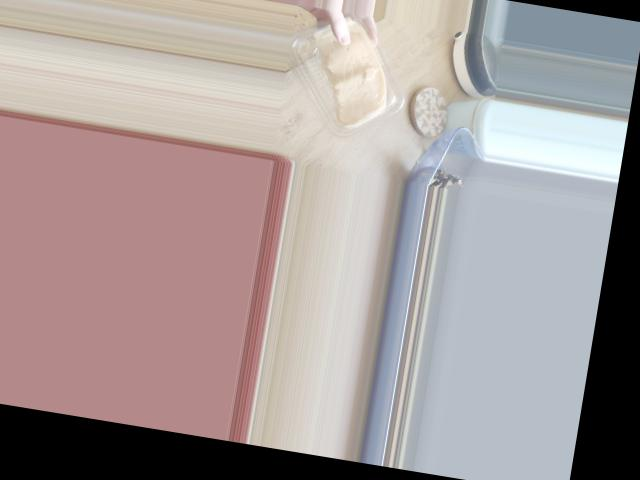cheese: (278, 14, 425, 162)
